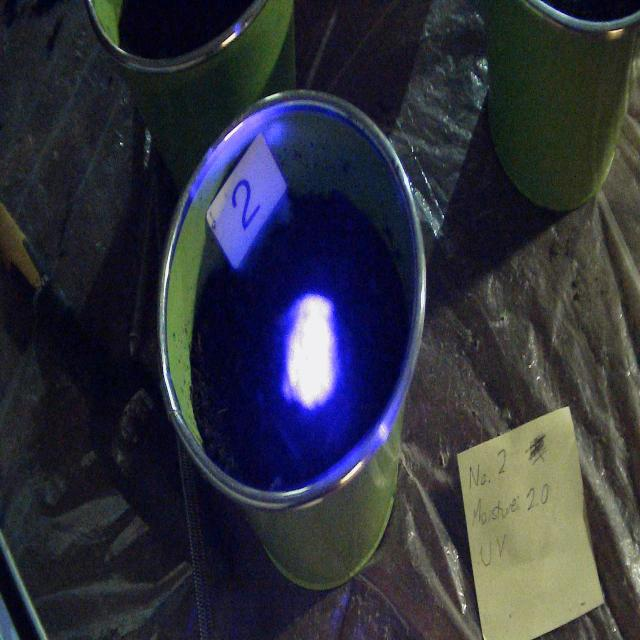soil-moisture-2.0: (283, 293, 338, 407)
